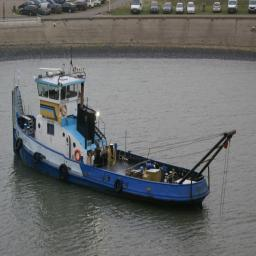tugboat: (12, 64, 239, 215)
